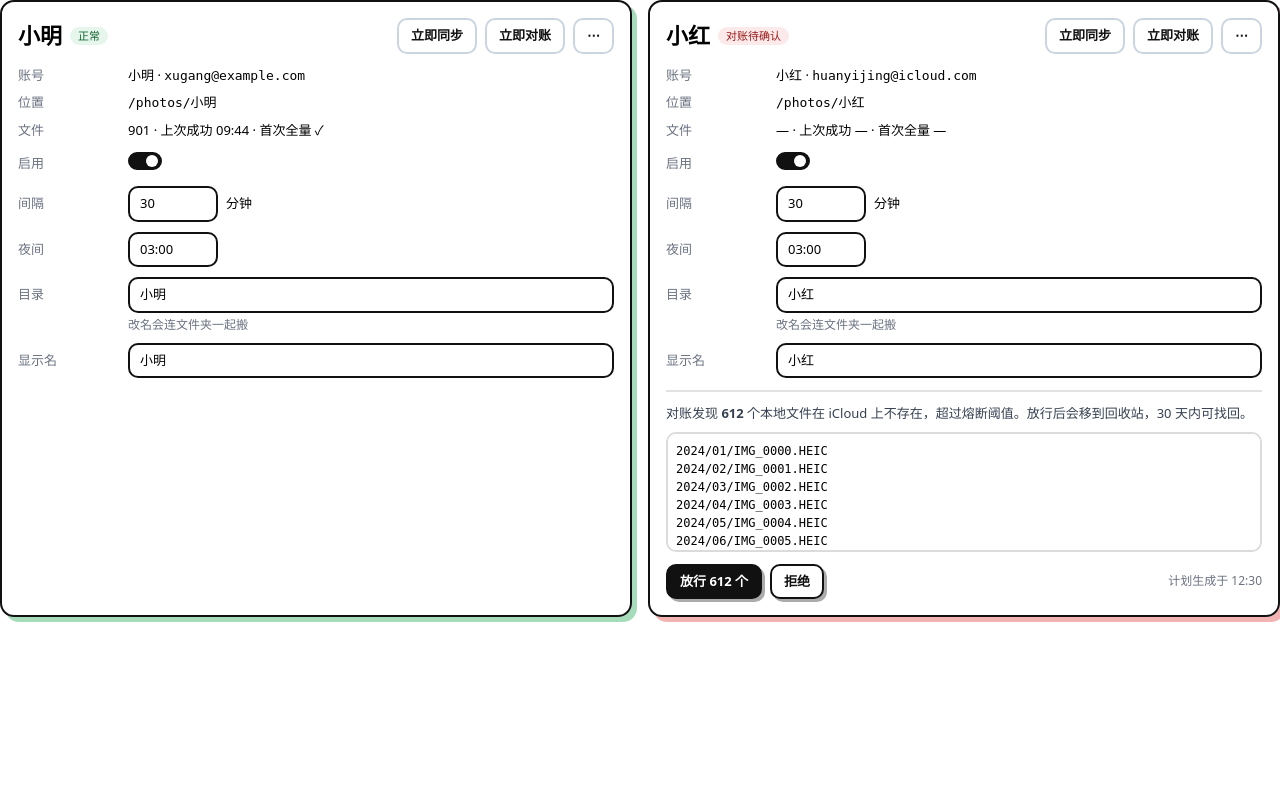
Test: LibraryCard › 目录 change asks for confirmation, then patches; 409 shows the detail under the field and reverts the value
Check: the text "改名会连文件夹一起搬" below "901" is shown, box [128, 316, 248, 332]
Replace the text in the field labelled "目录" below "901" with "新目录" at (371, 295), box [128, 277, 614, 312]
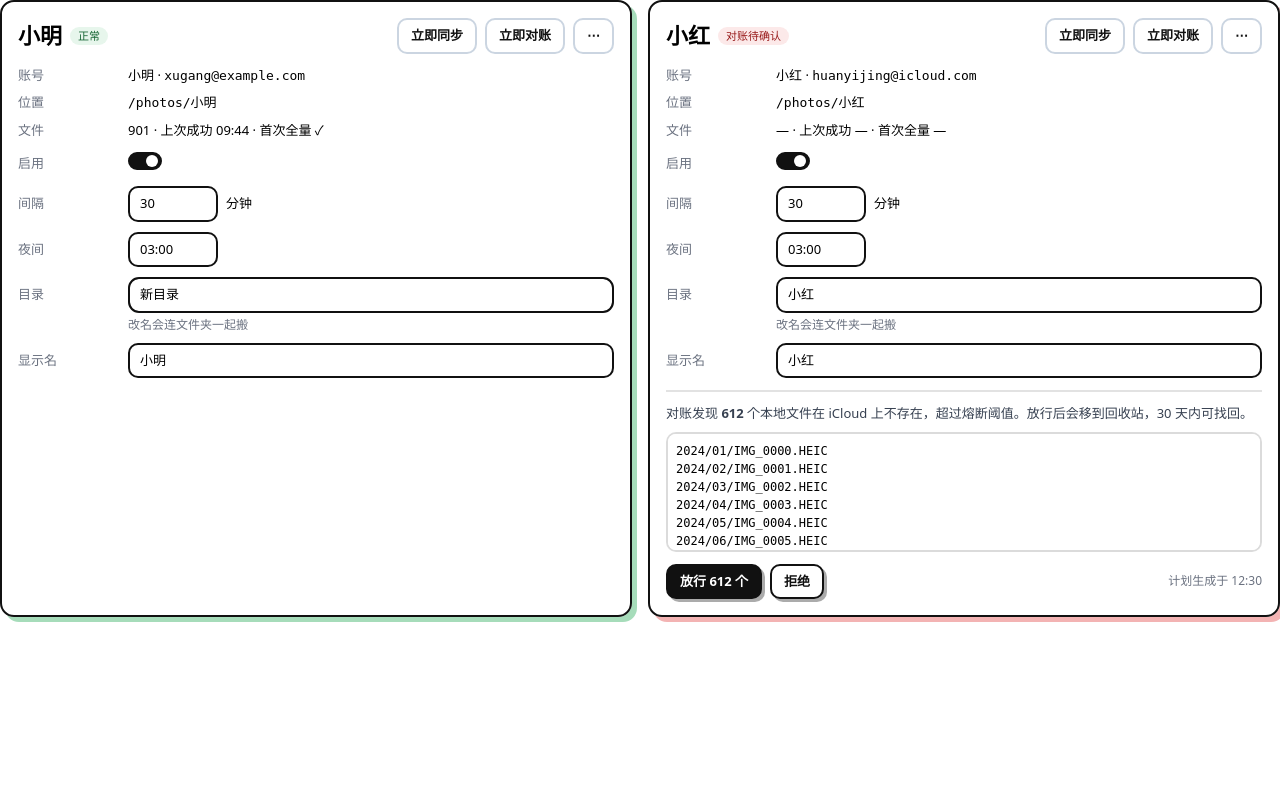
Press Tab
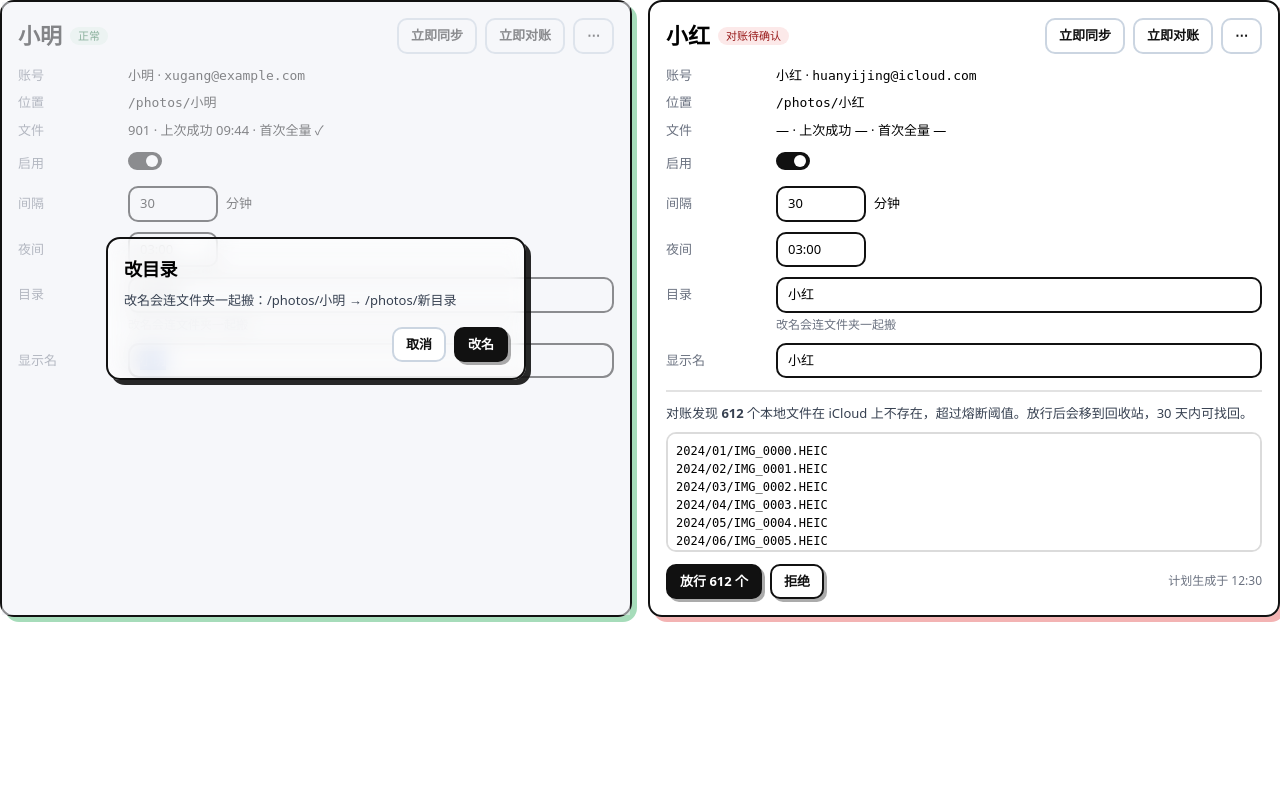
Check: the text "改目录" is shown, box [124, 257, 177, 281]
Click the button "改名" at (481, 344), box [454, 326, 508, 362]
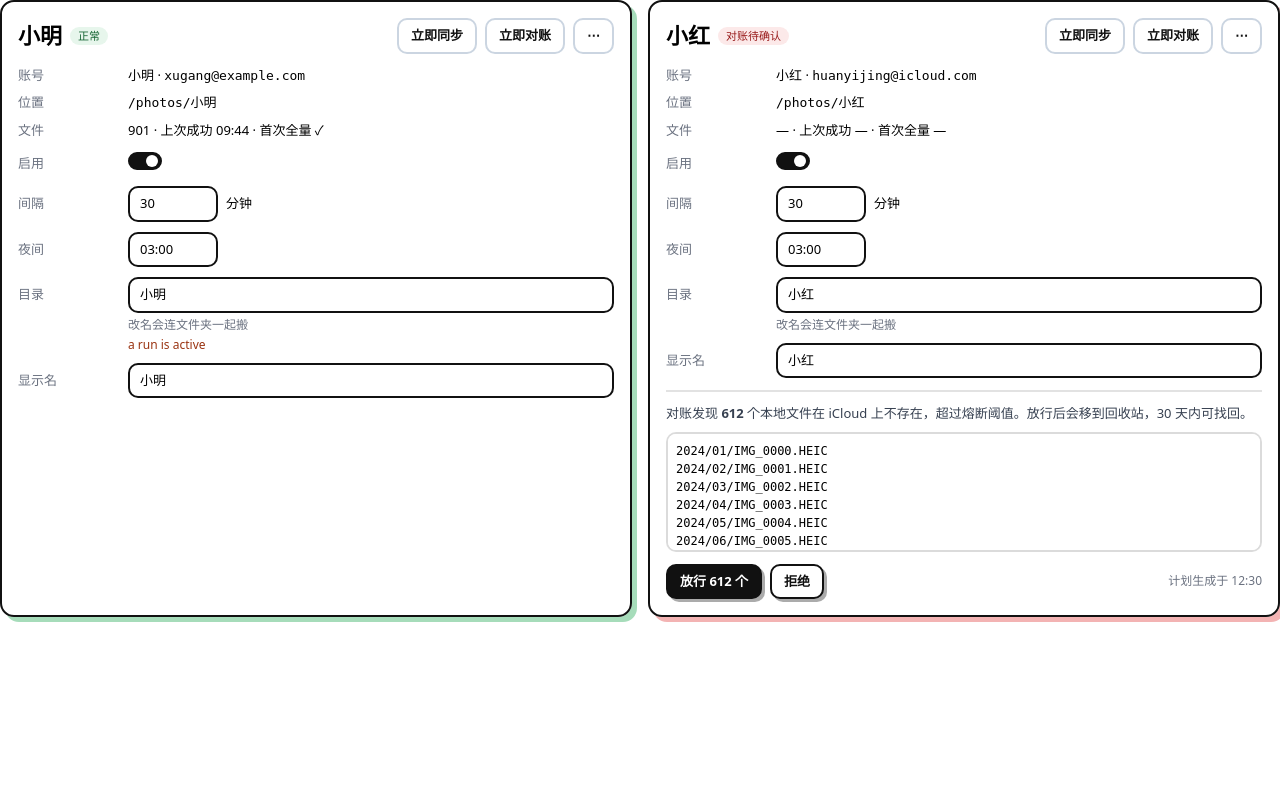
Check: the text "a run is active" is shown, box [128, 336, 206, 352]
Check: the field labelled "目录" below "901" holds "小明", box [128, 277, 614, 312]
Check: the dialog is gone
